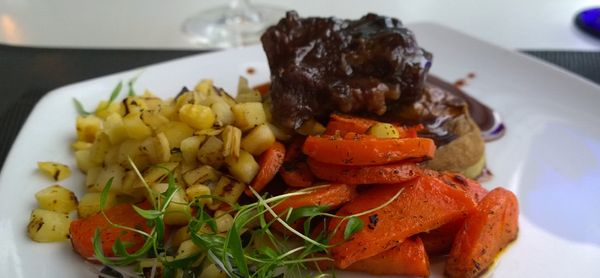pizza: (302, 132, 434, 185)
